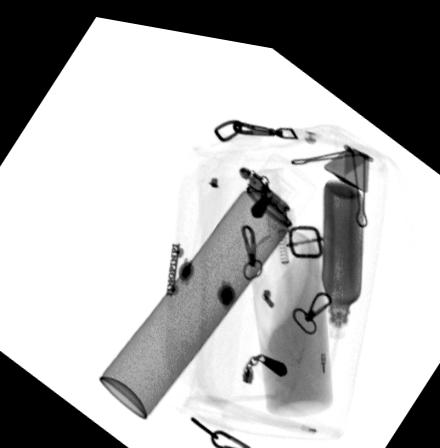Sprayer: (95, 140, 318, 416)
